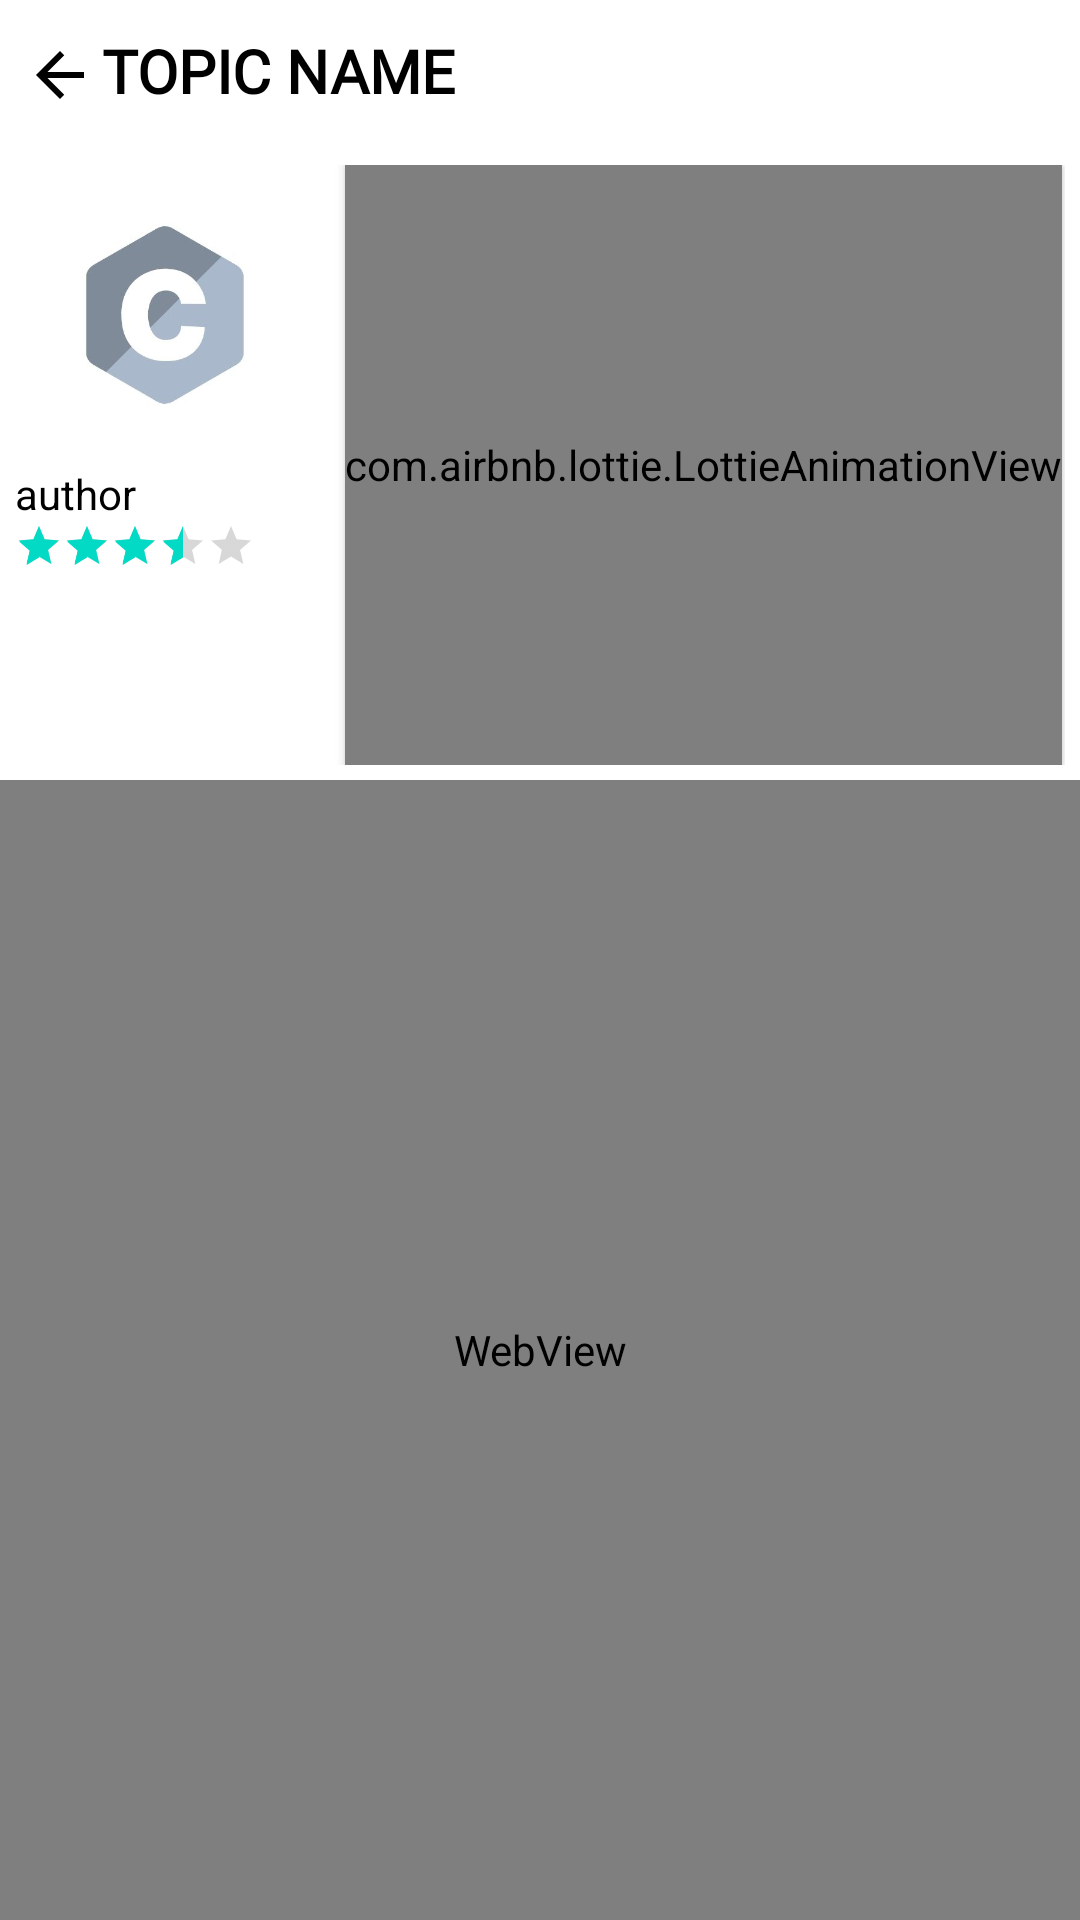

Where icons sit on this 1080px×1920px app screen, as (x1, y1, x2, y2):
arrow back: (36, 51, 84, 99)
